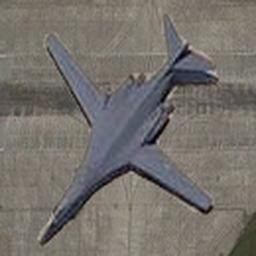Airplane: (35, 12, 220, 247)
